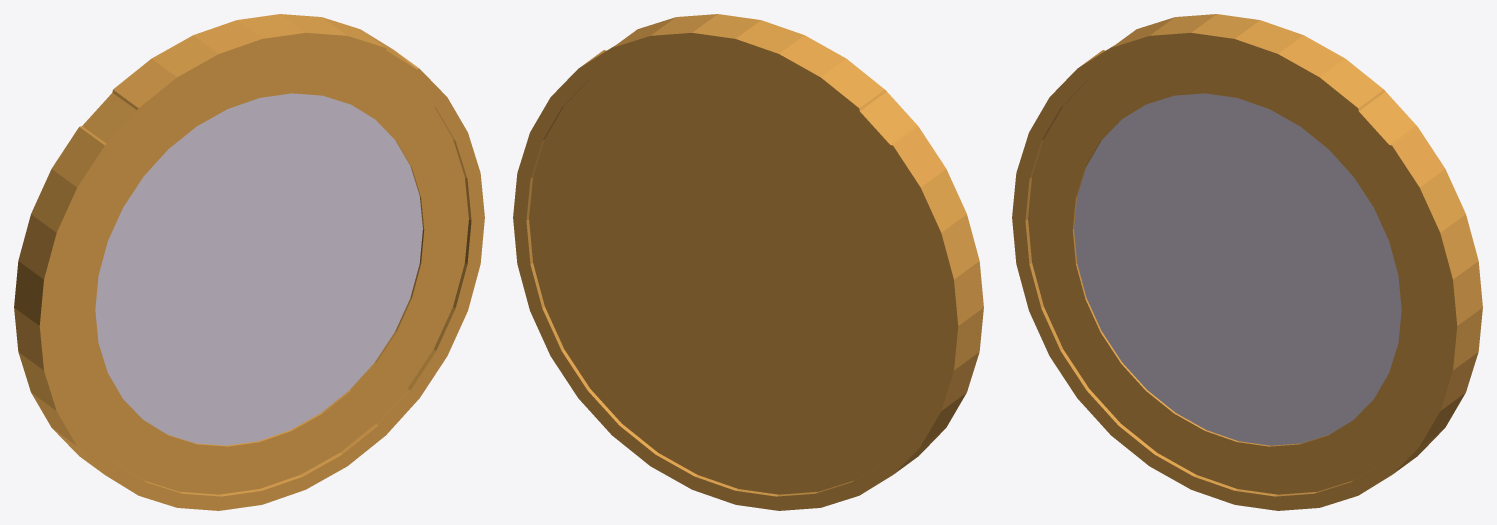
File: shicoin.glb
3 renders of one model, left to right at view 1: azimuth 30°, elevation 25°; view 2: azimuth 150°, elevation 25°; view 3: azimuth 330°, elevation 25°, orthographic.
Visible parts, largest first — view 1: Cylinder; view 2: Cylinder; view 3: Cylinder.
Part boxes in pixels (x1,y1,x2,y2): Cylinder: [14, 14, 484, 510]; Cylinder: [513, 14, 983, 510]; Cylinder: [1012, 14, 1482, 510].
Size of the model in its own units: 2 by 2 by 0.2.
